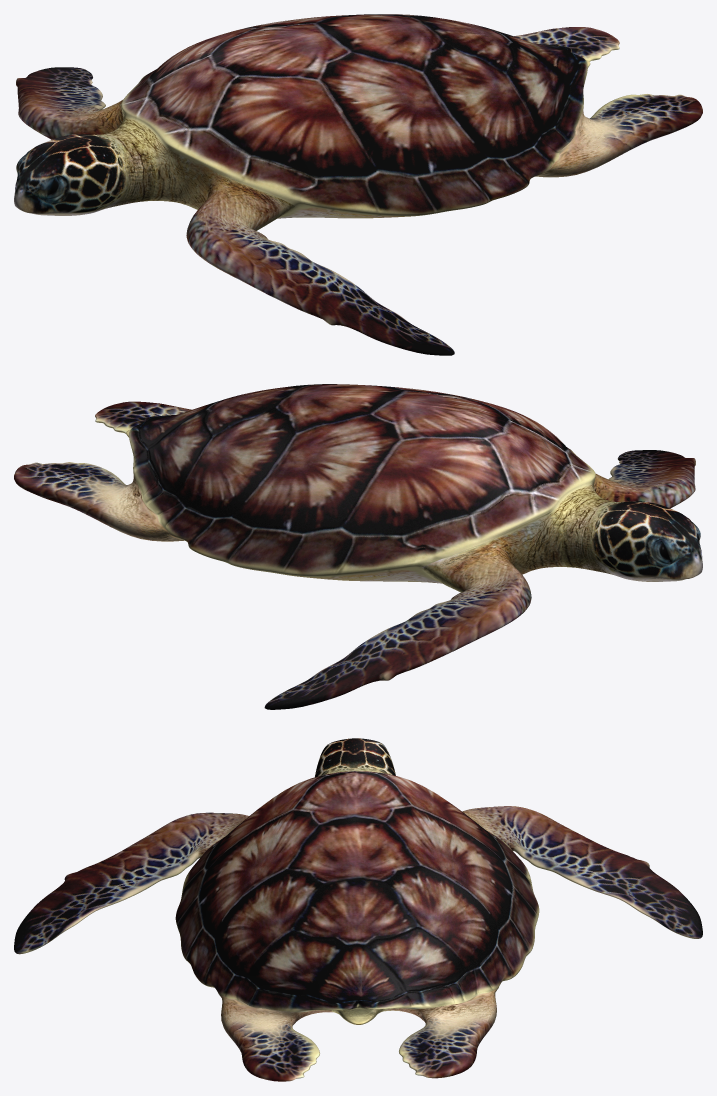
Rendered from turtle.obj.
The picture shows the model from 3 angles, top to bottom: view 1: azimuth 30°, elevation 25°; view 2: azimuth 150°, elevation 25°; view 3: azimuth 270°, elevation 25°; orthographic projection. The views are drawn at different scales.
Parts seen in each view (by area): view 1: 10042_Sea_Turtle_V2_iterations-2; view 2: 10042_Sea_Turtle_V2_iterations-2; view 3: 10042_Sea_Turtle_V2_iterations-2.
Part boxes in pixels (bbox=[...]): 10042_Sea_Turtle_V2_iterations-2: bbox=[14, 14, 702, 355]; 10042_Sea_Turtle_V2_iterations-2: bbox=[14, 384, 702, 709]; 10042_Sea_Turtle_V2_iterations-2: bbox=[14, 738, 702, 1081].
Bounding box in the file's own units: 2.72 × 0.7152 × 2.71.
